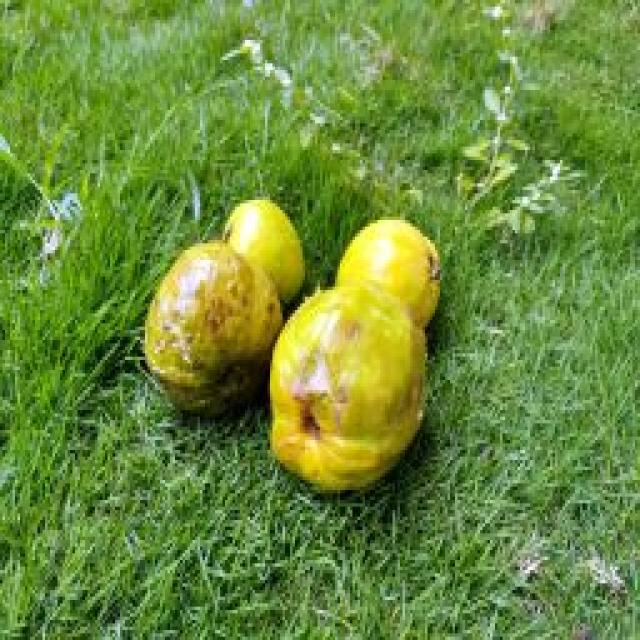Organik: (271, 265, 436, 494), (126, 229, 288, 414), (314, 200, 458, 320), (222, 192, 318, 292)
